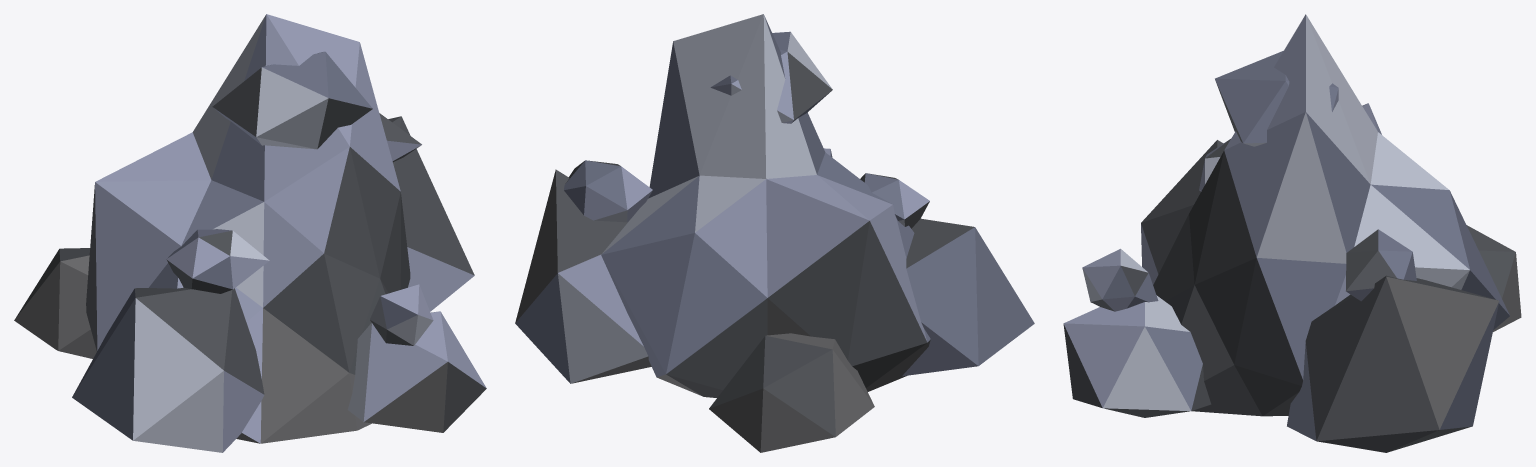
File: titanium_ore_c.glb
The picture shows the model from 3 angles, left to right: view 1: azimuth 30°, elevation 25°; view 2: azimuth 150°, elevation 25°; view 3: azimuth 270°, elevation 25°; orthographic projection. The views are drawn at different scales.
Parts seen in each view (by area): view 1: titanium_ore_c; view 2: titanium_ore_c; view 3: titanium_ore_c.
Boxes of the visible parts, box(x1,y1,x2,y2) form: titanium_ore_c: box(14, 14, 486, 452); titanium_ore_c: box(515, 14, 1034, 452); titanium_ore_c: box(1063, 14, 1521, 452).
Size of the model in its own units: 1.23 by 0.9722 by 1.14.
